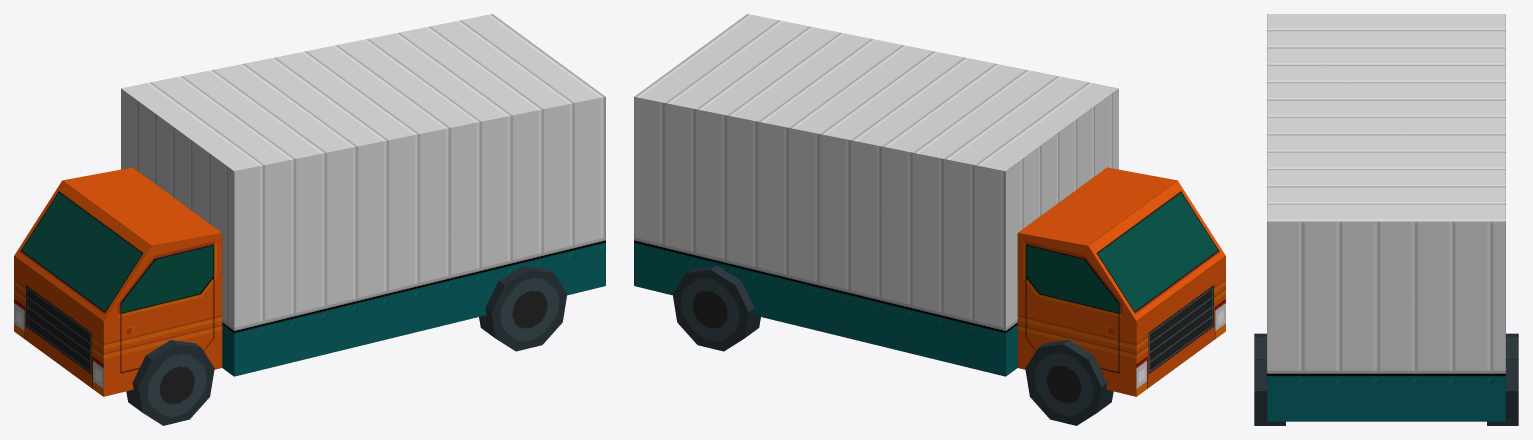
File: cooltruck.fbx
3 views of the same model, side by side, from view 1: azimuth 30°, elevation 25°; view 2: azimuth 150°, elevation 25°; view 3: azimuth 270°, elevation 25° (orthographic). The views are drawn at different scales.
Visible parts, largest first — view 1: group, cylinder, cylinder_2; view 2: group, cylinder_1, cylinder_3; view 3: group, cylinder_2, cylinder_3.
Boxes of the visible parts, left/top/right/bottom form: group: left=14, top=14, right=605, bottom=396; cylinder: left=126, top=340, right=214, bottom=425; cylinder_2: left=479, top=265, right=567, bottom=351; group: left=634, top=14, right=1225, bottom=396; cylinder_1: left=1025, top=340, right=1113, bottom=425; cylinder_3: left=672, top=265, right=760, bottom=351; group: left=1267, top=14, right=1505, bottom=421; cylinder_2: left=1254, top=333, right=1285, bottom=425; cylinder_3: left=1487, top=333, right=1518, bottom=425.
Size of the model in its own units: 594 by 281 by 262.
Materials: 1 (1 with a texture image).
